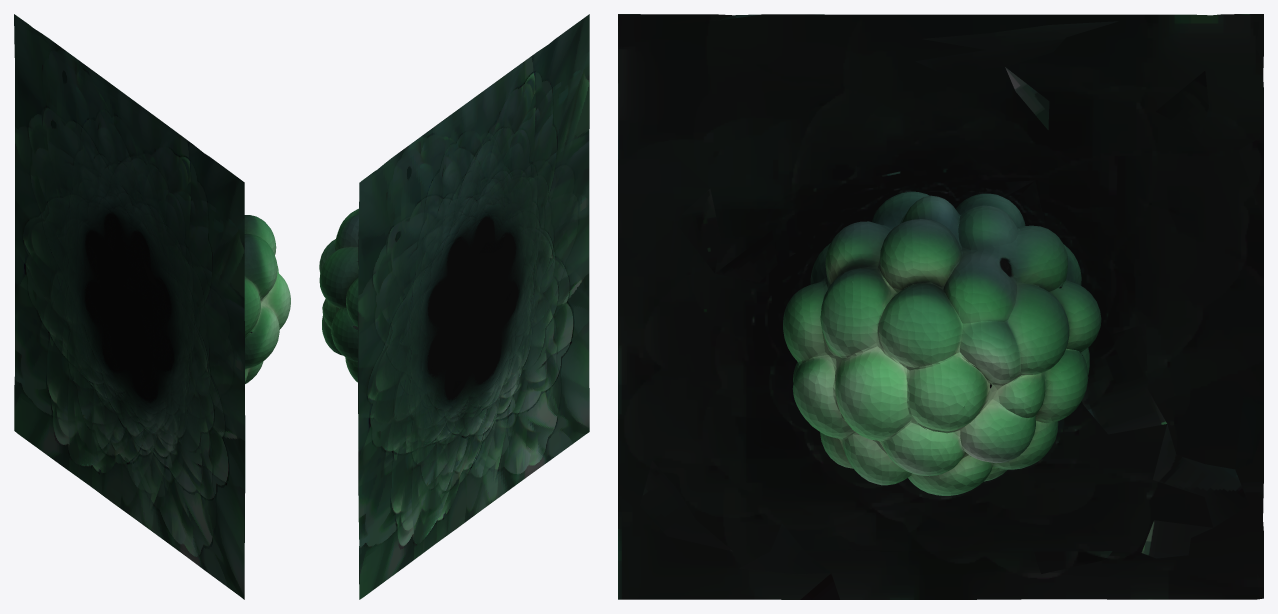
Rendered from bush_round_comfyui.glb.
3 renders of one model, left to right at view 1: azimuth 30°, elevation 25°; view 2: azimuth 150°, elevation 25°; view 3: azimuth 270°, elevation 25°, orthographic. The views are drawn at different scales.
Size of the model in its own units: 0.3697 by 1 by 1.
Materials: 1 (1 with a texture image).
